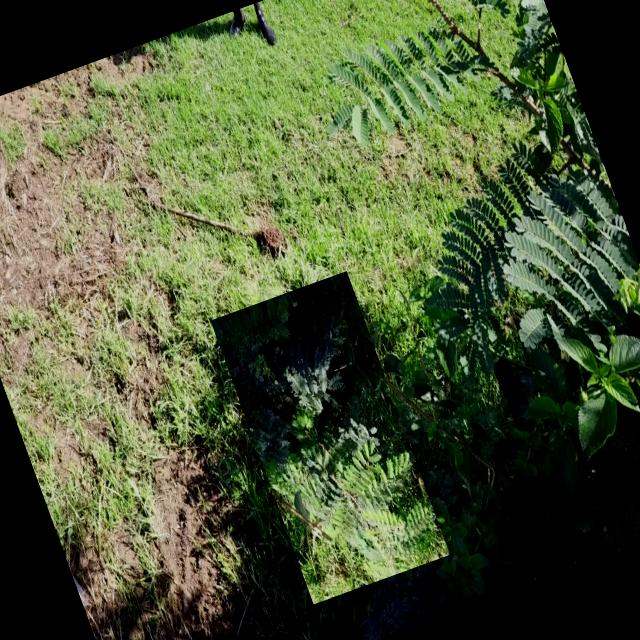Mysore-Thorn-Weed: (282, 0, 640, 420), (210, 271, 450, 604)
